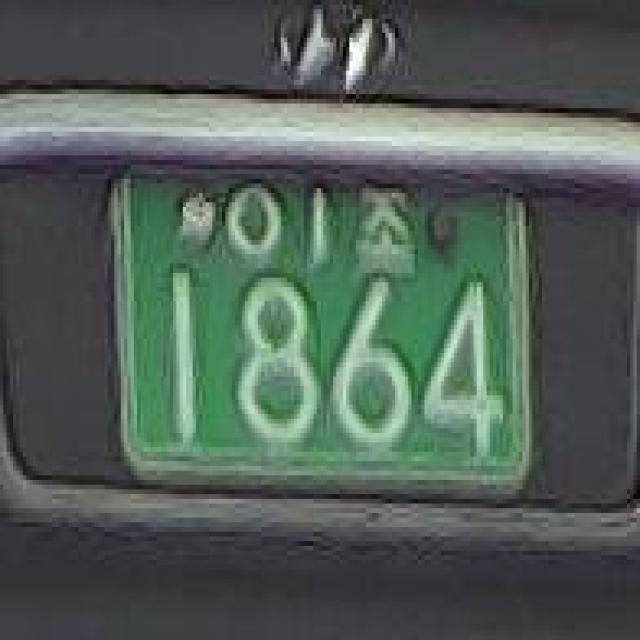illegal_plate: (93, 137, 548, 523)
